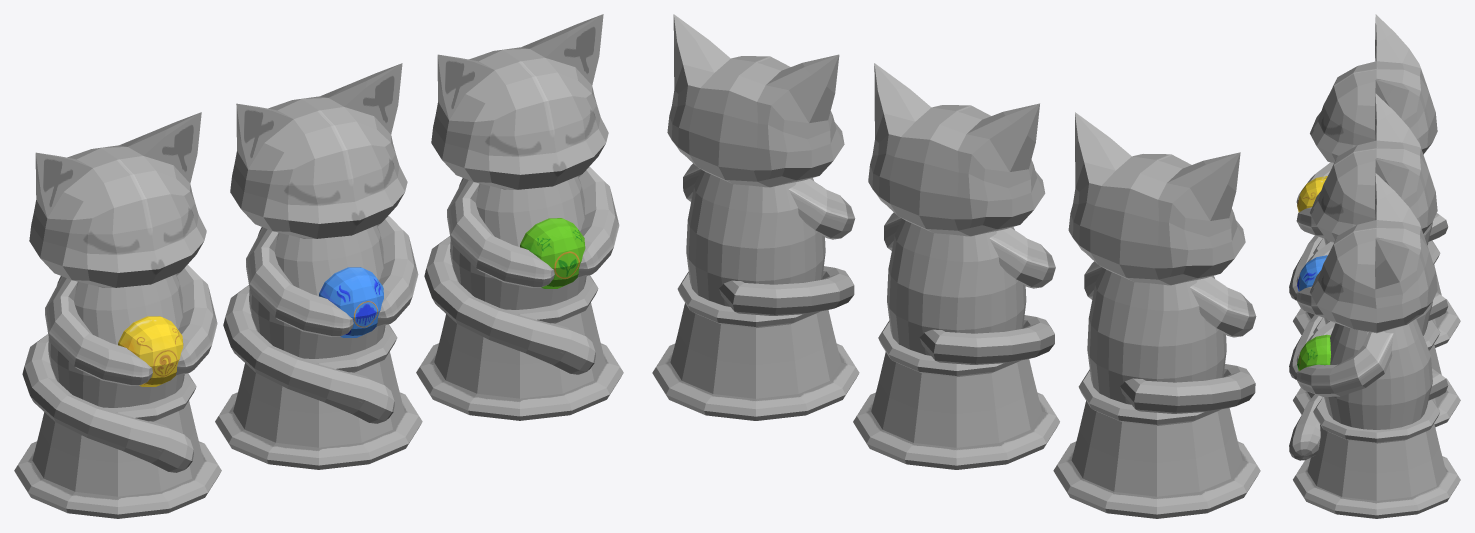
File: GStatuesLvl3.fbx
The picture shows the model from 3 angles, left to right: view 1: azimuth 30°, elevation 25°; view 2: azimuth 150°, elevation 25°; view 3: azimuth 270°, elevation 25°; orthographic projection. The views are drawn at different scales.
Visible parts, largest first — view 1: 1-Statue.001, 1-Statue.002, 1-Statue, 2-CrystalBall, 2-CrystalBall.002, 2-CrystalBall.001; view 2: 1-Statue.001, 1-Statue.002, 1-Statue; view 3: 1-Statue.002, 1-Statue.001, 1-Statue, 2-CrystalBall.002, 2-CrystalBall.001, 2-CrystalBall.
Boxes of the visible parts, x1=… form: 1-Statue.001: x1=215, y1=63, x2=422, y2=469; 1-Statue.002: x1=416, y1=14, x2=623, y2=420; 1-Statue: x1=14, y1=112, x2=221, y2=518; 2-CrystalBall: x1=118, y1=316, x2=183, y2=386; 2-CrystalBall.002: x1=520, y1=218, x2=585, y2=288; 2-CrystalBall.001: x1=319, y1=267, x2=383, y2=337; 1-Statue.001: x1=853, y1=63, x2=1059, y2=469; 1-Statue.002: x1=652, y1=14, x2=859, y2=420; 1-Statue: x1=1053, y1=112, x2=1260, y2=518; 1-Statue.002: x1=1289, y1=173, x2=1460, y2=518; 1-Statue.001: x1=1289, y1=93, x2=1460, y2=427; 1-Statue: x1=1289, y1=14, x2=1460, y2=347; 2-CrystalBall.002: x1=1297, y1=334, x2=1330, y2=370; 2-CrystalBall.001: x1=1297, y1=255, x2=1327, y2=291; 2-CrystalBall: x1=1297, y1=176, x2=1327, y2=212.
Bounding box in the file's own units: 361 × 204 × 114.
